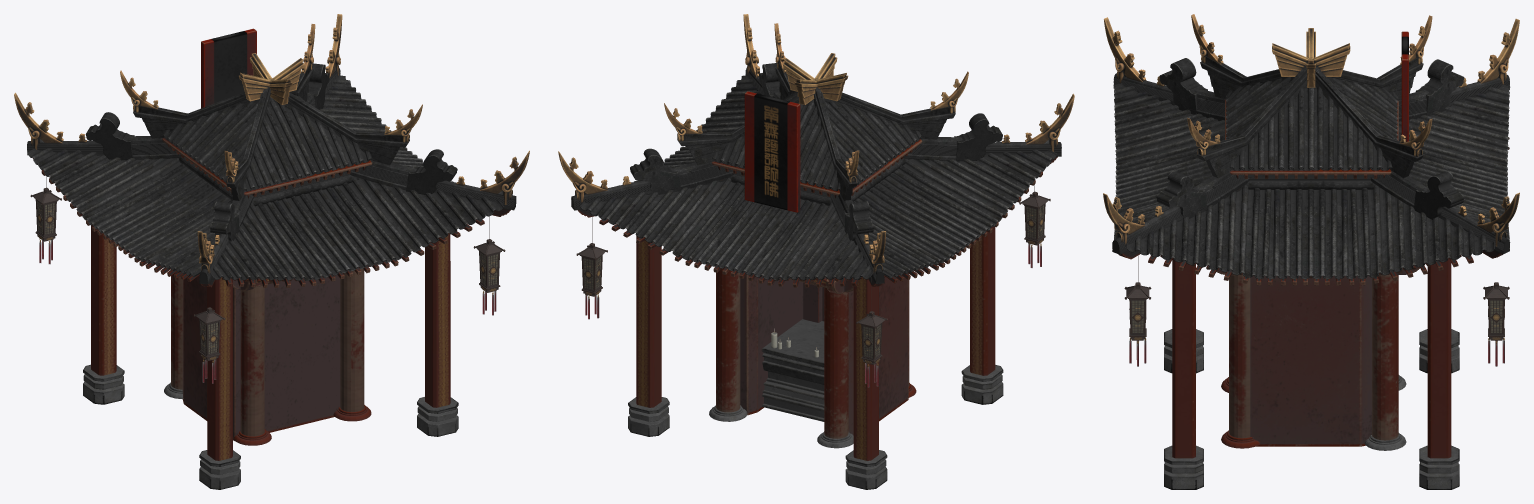
The model's file is Shrine.fbx.
3 views of the same model, side by side, from view 1: azimuth 30°, elevation 25°; view 2: azimuth 150°, elevation 25°; view 3: azimuth 270°, elevation 25° (orthographic). The views are drawn at different scales.
Parts seen in each view (by area): view 1: CTI Shrine.Shape; view 2: CTI Shrine.Shape; view 3: CTI Shrine.Shape.
Part boxes in pixels (x1,y1,x2,y2): CTI Shrine.Shape: [14, 14, 529, 489]; CTI Shrine.Shape: [558, 14, 1074, 489]; CTI Shrine.Shape: [1103, 14, 1519, 489].
Bounding box in the file's own units: 558 × 556 × 553.
Materials: 8 (7 with a texture image).
